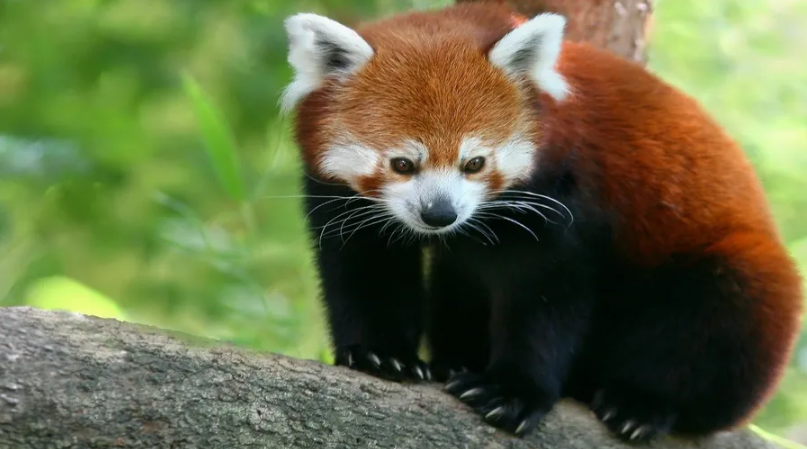red_panda: (279, 9, 580, 266)
